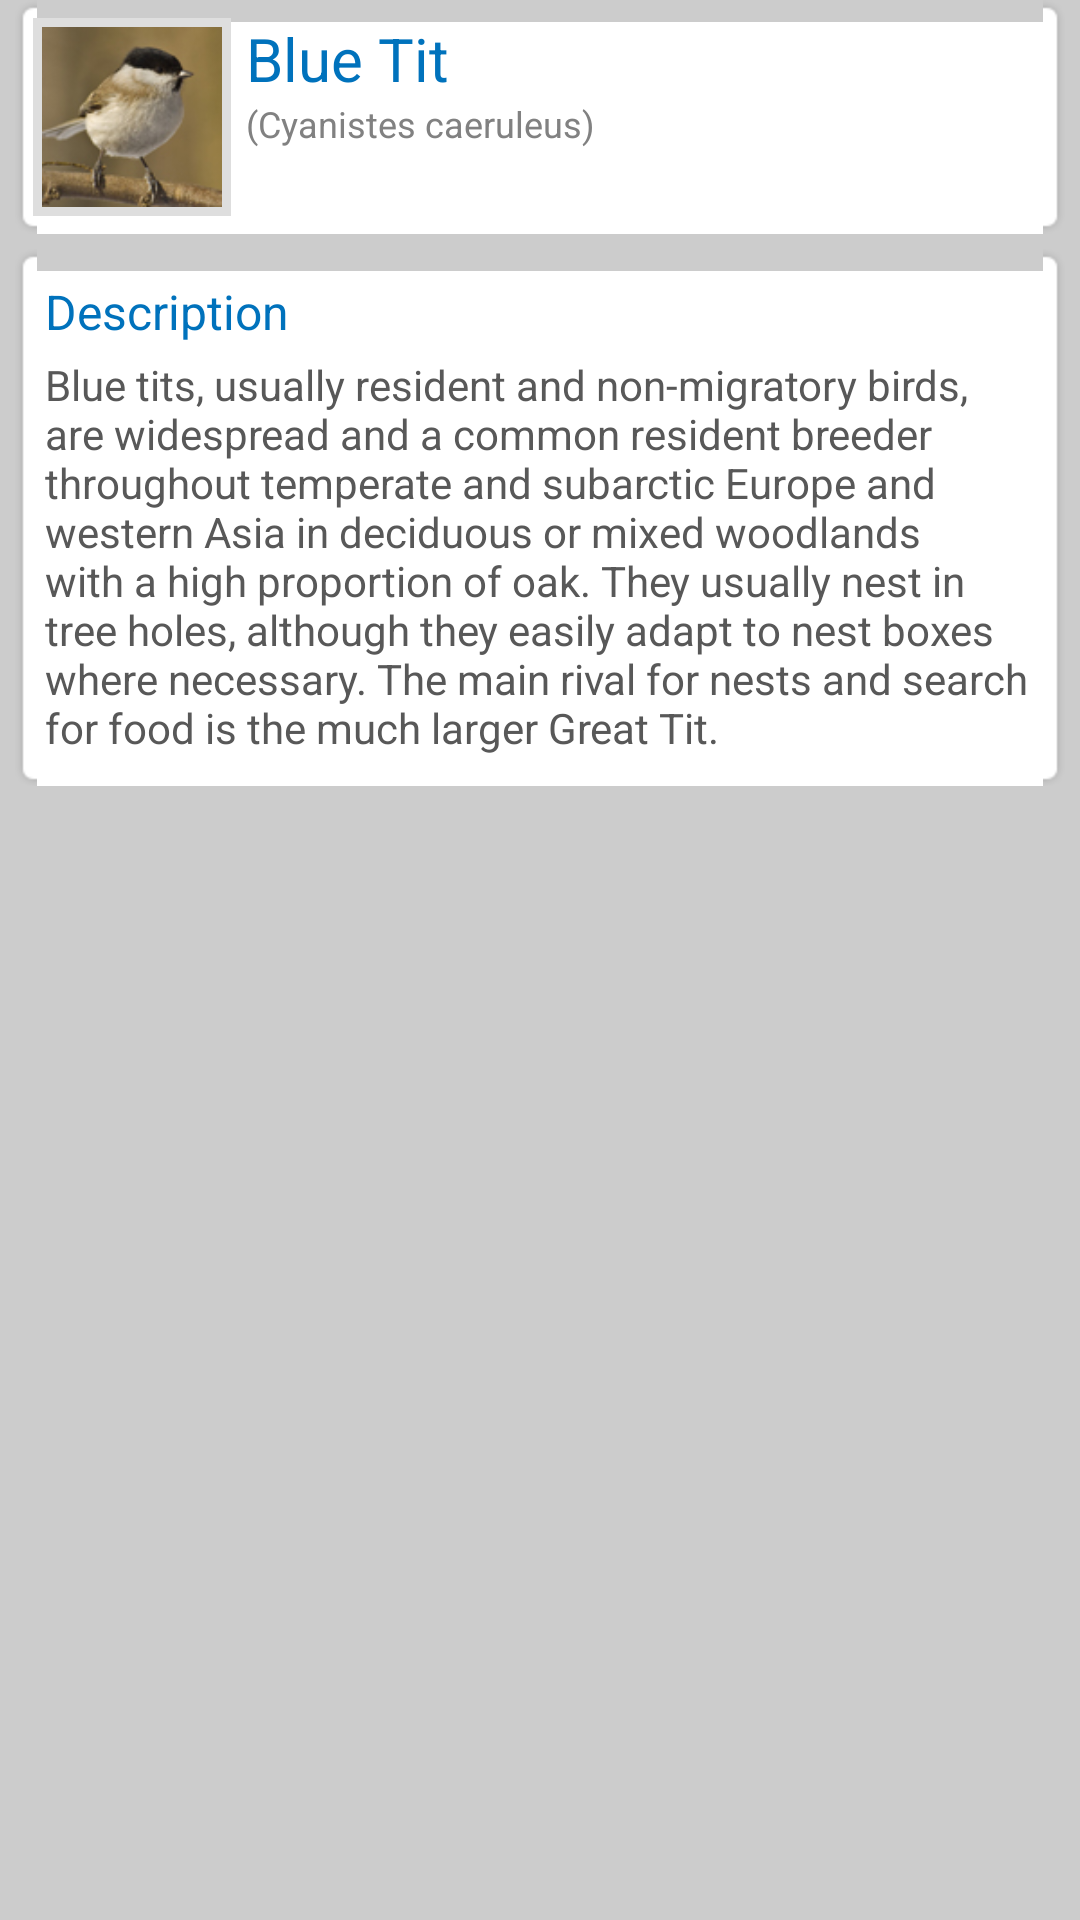

Icon bounding boxes for this 1080×1920 phone screenshot, format (x1, y1, x2, y2):
bird mock photo: (42, 27, 222, 207)
